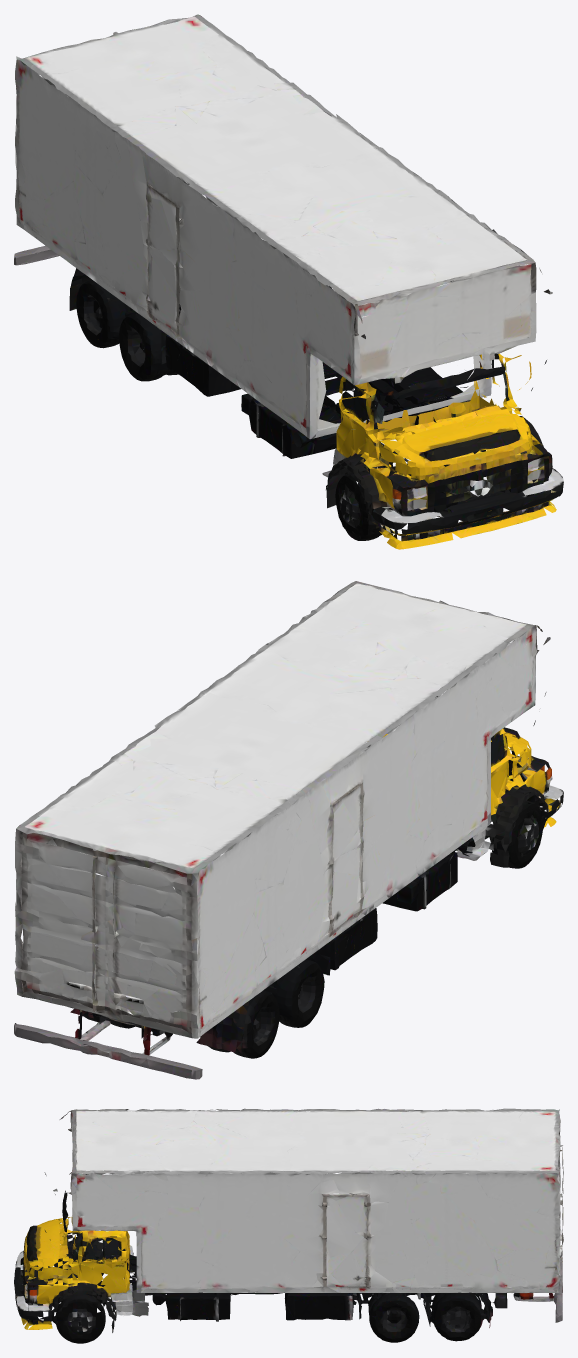
File: caminhao.glb
The picture shows the model from 3 angles, top to bottom: view 1: azimuth 30°, elevation 25°; view 2: azimuth 150°, elevation 25°; view 3: azimuth 270°, elevation 25°; orthographic projection. The views are drawn at different scales.
Parts seen in each view (by area): view 1: veiculo; view 2: veiculo; view 3: veiculo.
Boxes of the visible parts, bbox=[...] form: veiculo: bbox=[14, 14, 563, 549]; veiculo: bbox=[14, 581, 563, 1079]; veiculo: bbox=[14, 1108, 563, 1343].
Bounding box in the file's own units: 2.68 × 3.12 × 8.96.
1 material, 1 textured.
